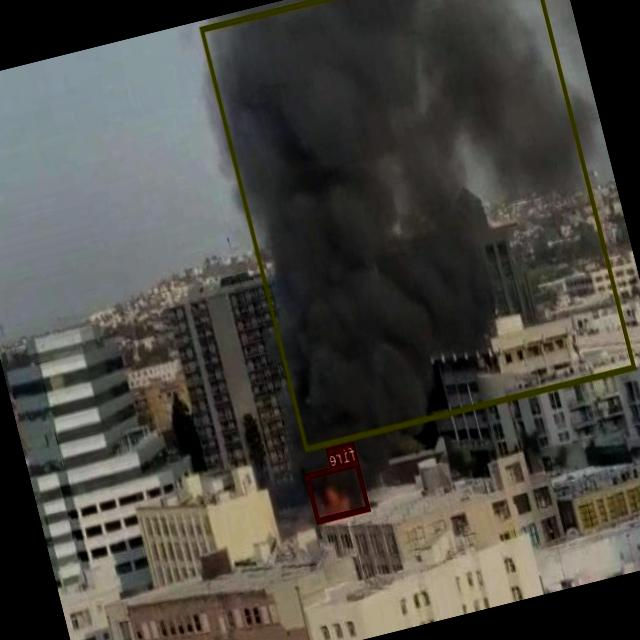fire: (306, 460, 372, 522)
smoke: (199, 0, 636, 450)
